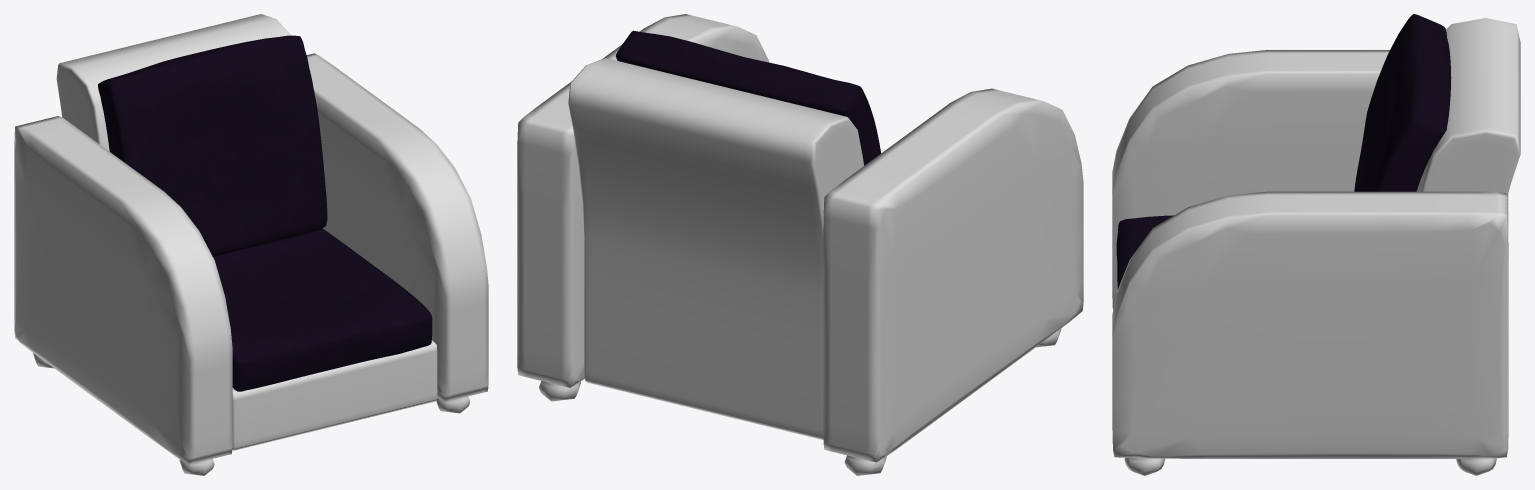
Rendered from armchair_grey.glb.
The picture shows the model from 3 angles, left to right: view 1: azimuth 30°, elevation 25°; view 2: azimuth 150°, elevation 25°; view 3: azimuth 270°, elevation 25°; orthographic projection. The views are drawn at different scales.
Visible parts, largest first — view 1: armchair_208; view 2: armchair_208; view 3: armchair_208.
Boxes of the visible parts, bbox=[...] form: armchair_208: bbox=[14, 14, 488, 475]; armchair_208: bbox=[517, 14, 1083, 475]; armchair_208: bbox=[1112, 14, 1520, 475].
Size of the model in its own units: 0.8534 by 0.7977 by 0.8765.
Materials: 2 (1 with a texture image).
